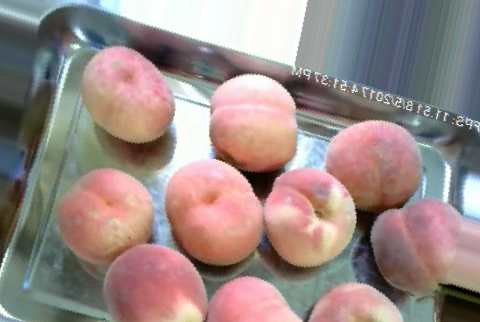Peach: (165, 159, 264, 262), (55, 166, 154, 263), (80, 45, 175, 144), (326, 118, 425, 211), (265, 167, 357, 266), (371, 198, 459, 299), (209, 71, 298, 169), (101, 244, 208, 321)
